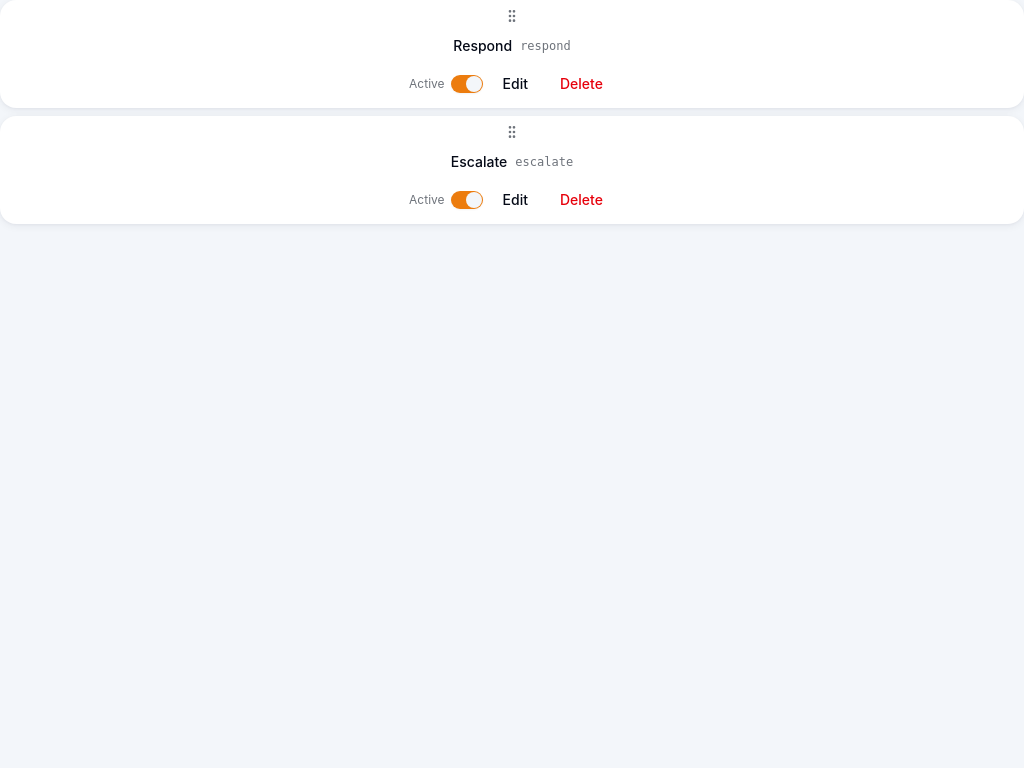
Test case: CategoryList › clicking Delete button shows confirmation dialog
# Click delete for "Respond"
Click the button with aria-label "delete respond". click: [581, 84]
box: [548, 68, 615, 100]
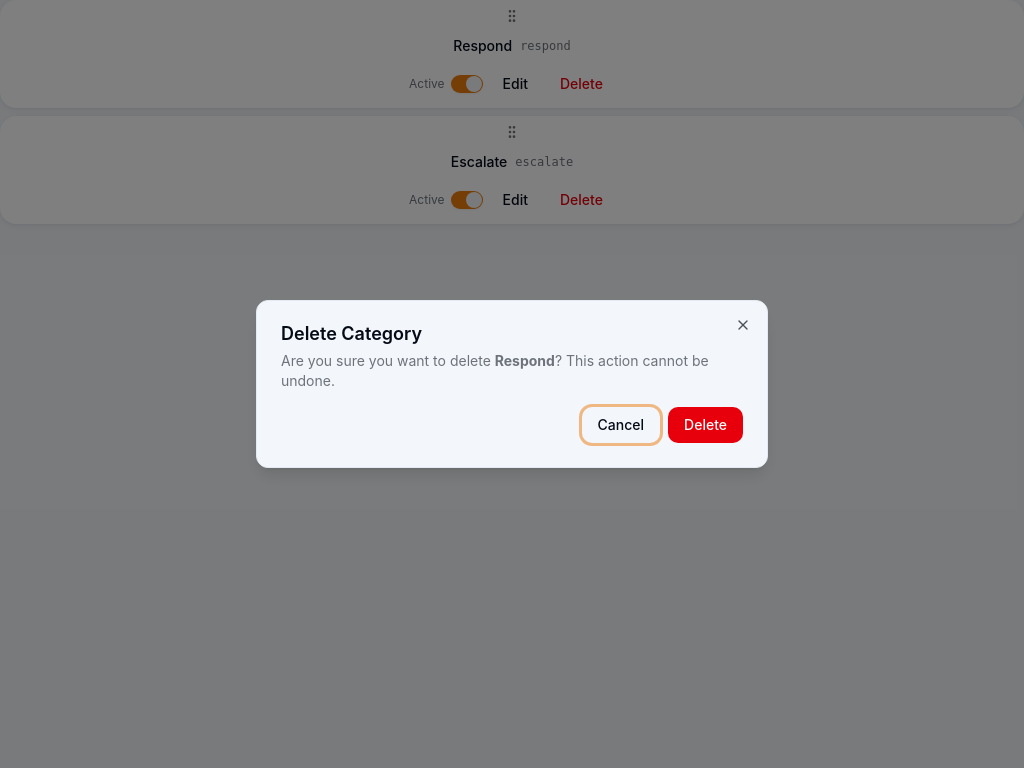
Expected: the dialog is shown, [256, 300, 768, 468]
Expected: the text "Are you sure you want to delete" is shown, [281, 352, 491, 369]
Expected: the dialog shows "Respond", [495, 352, 555, 369]
